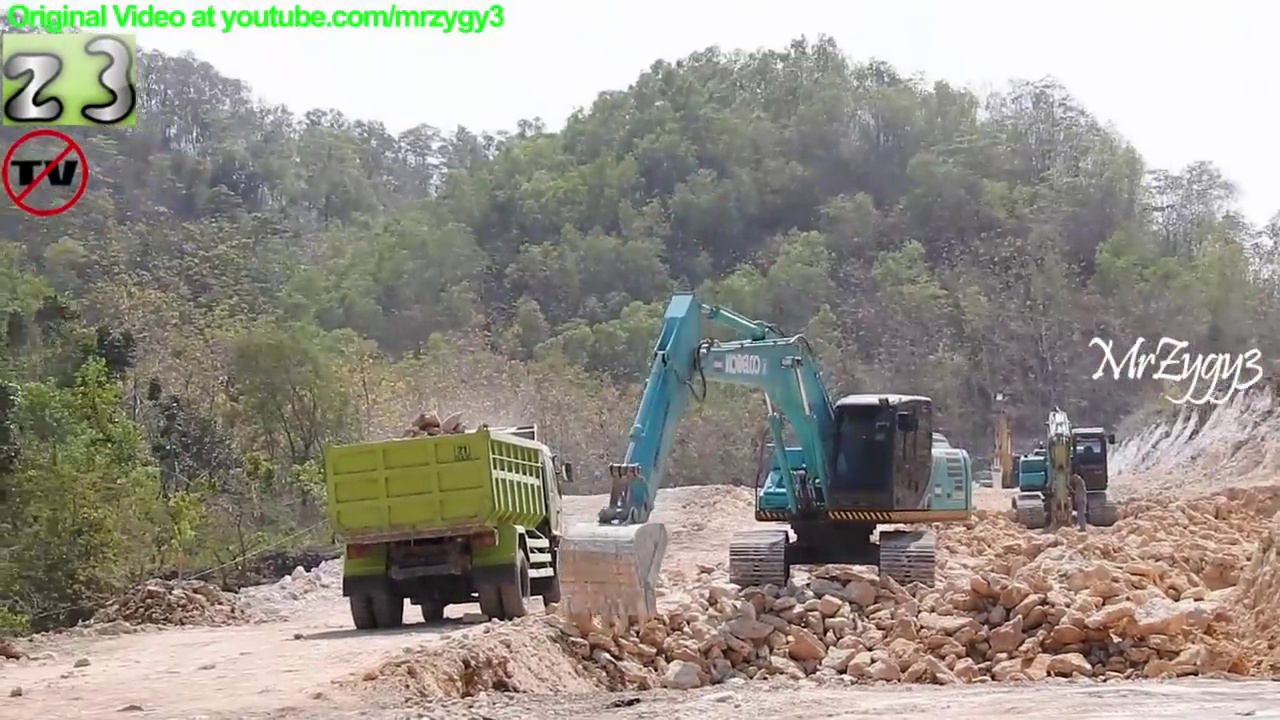excavator: (551, 289, 977, 633), (968, 403, 1043, 500)
excavator breaker: (1010, 405, 1123, 534)
truck: (319, 423, 579, 636)
worker: (1062, 469, 1096, 531)
